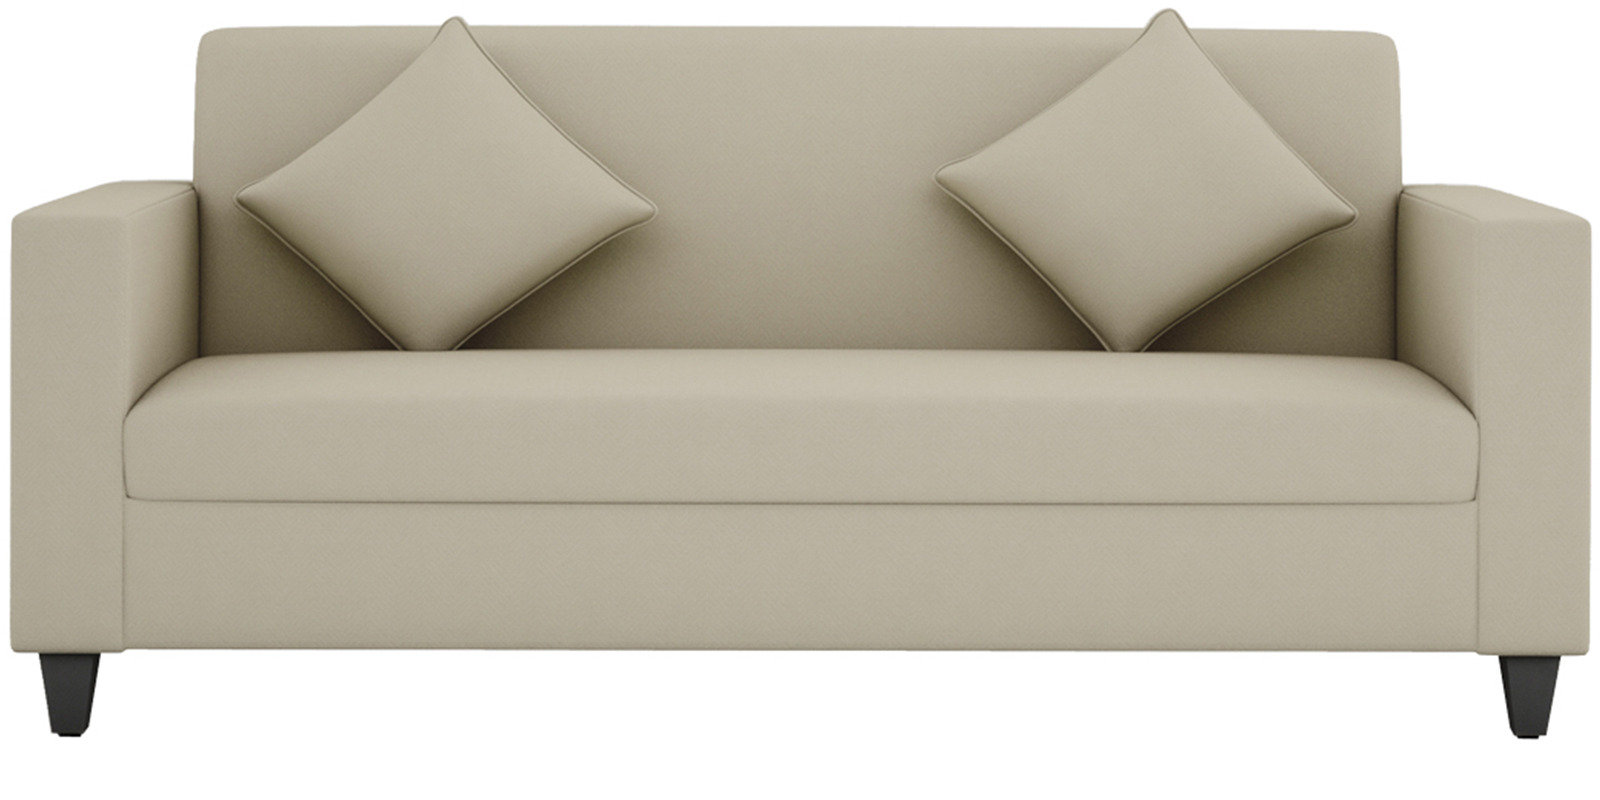Cooper Three Seater Sofa in Beige Colour by ARRA: (4, 14, 1600, 768)
